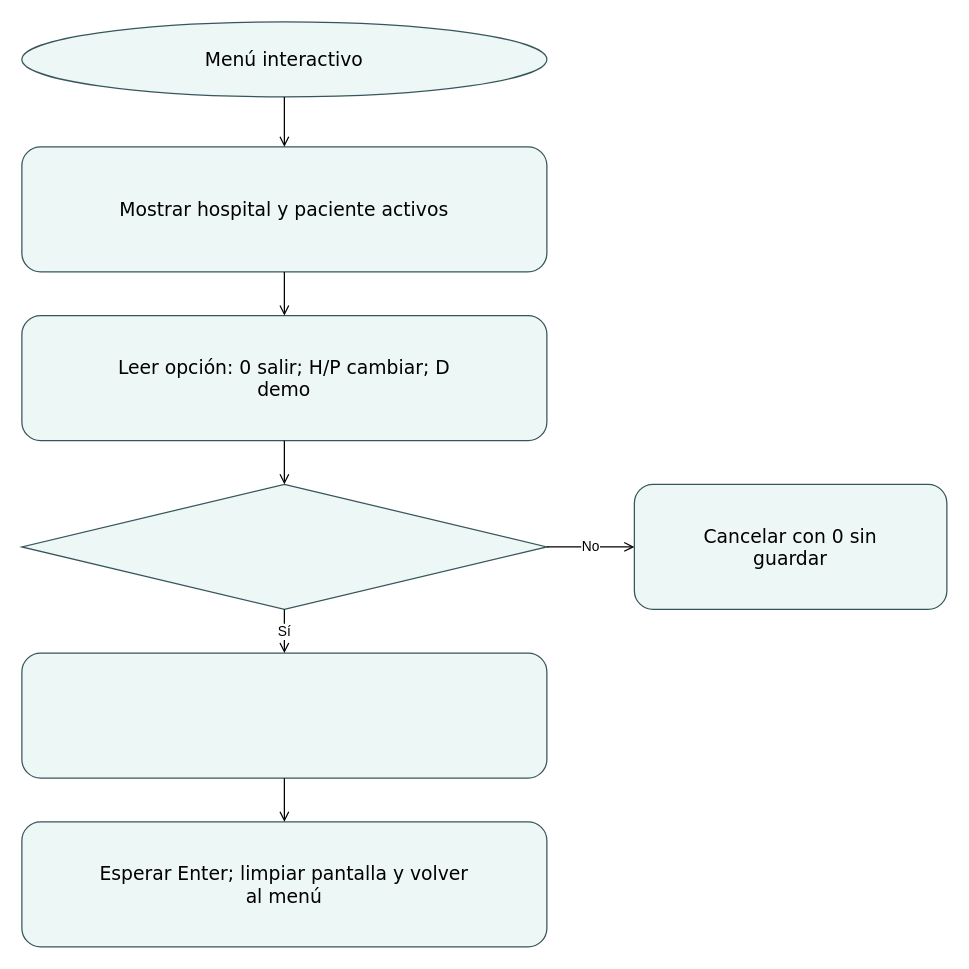
Some shapes in this 969 by 969 pixel diagram are drawn without their labels. Each missing label, with the box of its shape:
Registrar, atender, consultar o supervisar: (21, 652, 547, 778)
¿La opción y sus datos son válidos?: (21, 483, 547, 609)
